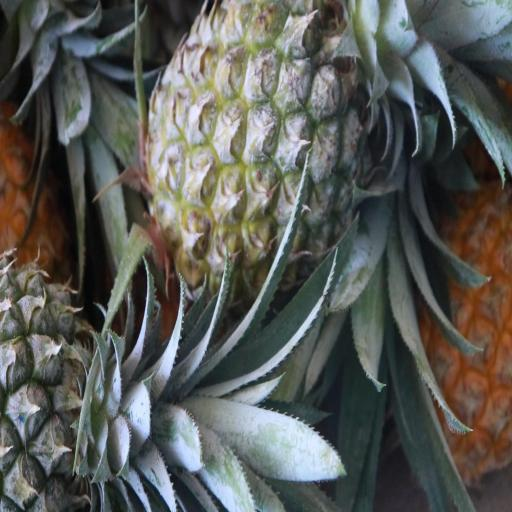------------------------------: (145, 0, 377, 301)
Pineapple - v8 v1: (411, 189, 511, 473)
